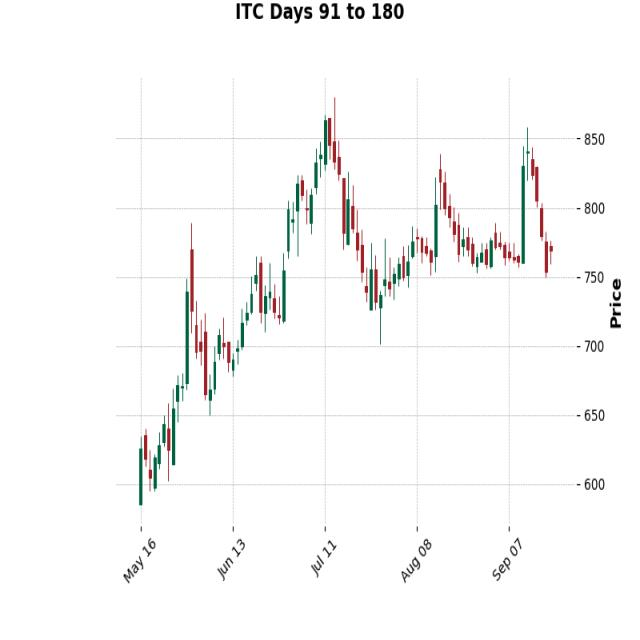Ascending Triangle: (312, 92, 537, 344)
